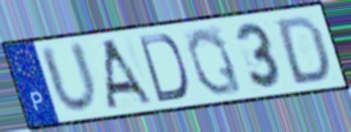3: (233, 19, 284, 91)
A: (104, 37, 156, 110)
D: (275, 13, 332, 87), (136, 32, 191, 105)
Q: (184, 25, 246, 98)
U: (36, 39, 102, 117)
